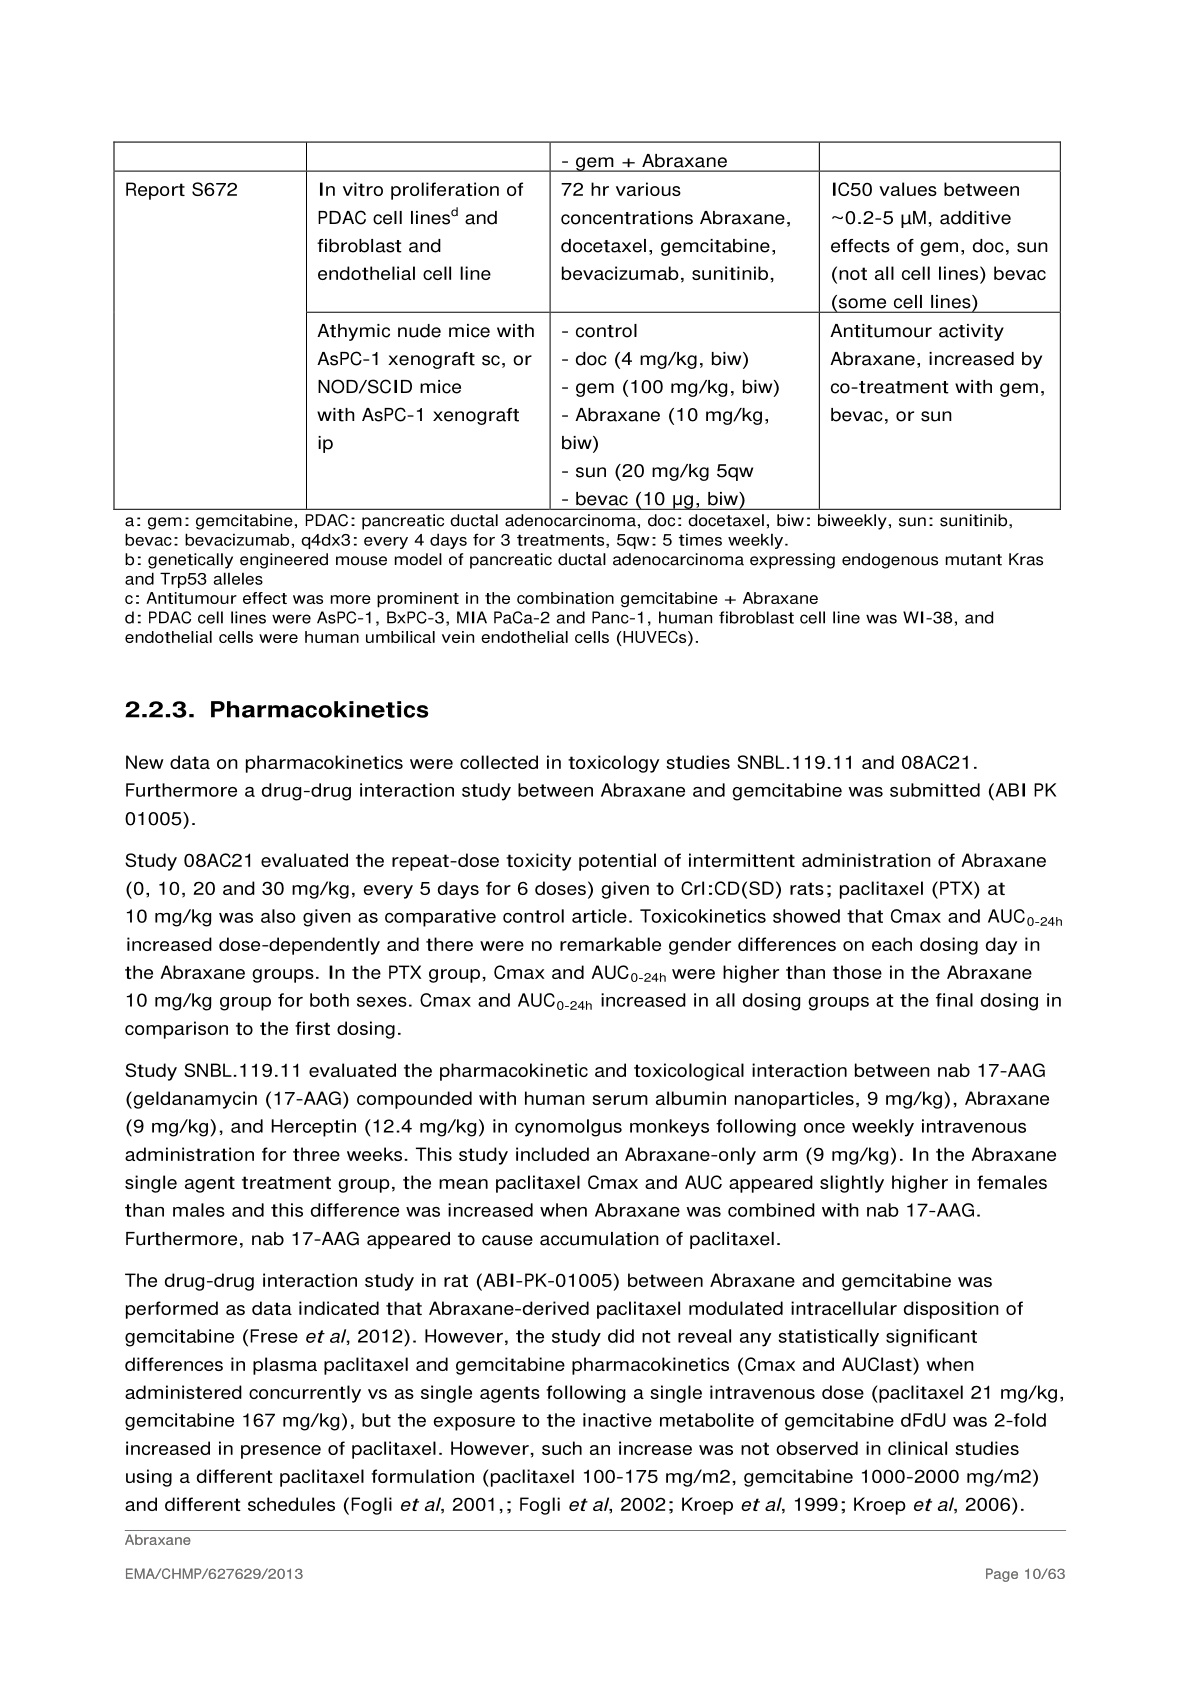merged_cells: (112, 139, 1062, 510)
